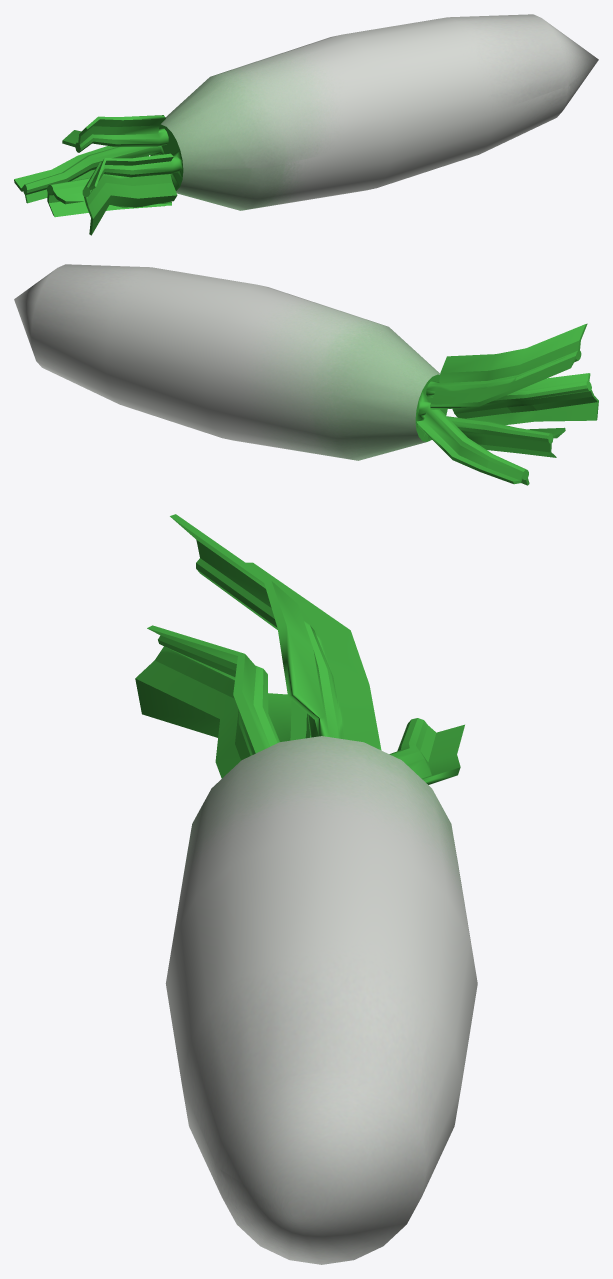
File: JapanWhiteRadish 1.fbx
3 views of the same model, one above another, from view 1: azimuth 30°, elevation 25°; view 2: azimuth 150°, elevation 25°; view 3: azimuth 270°, elevation 25° (orthographic). The views are drawn at different scales.
Parts seen in each view (by area): view 1: polySurface1; view 2: polySurface1; view 3: polySurface1.
Boxes of the visible parts, x1,y1,x2,y2 form: polySurface1: [14, 14, 598, 235]; polySurface1: [14, 264, 598, 485]; polySurface1: [135, 514, 477, 1264].
Size of the model in its own units: 130 by 36.13 by 35.27.
